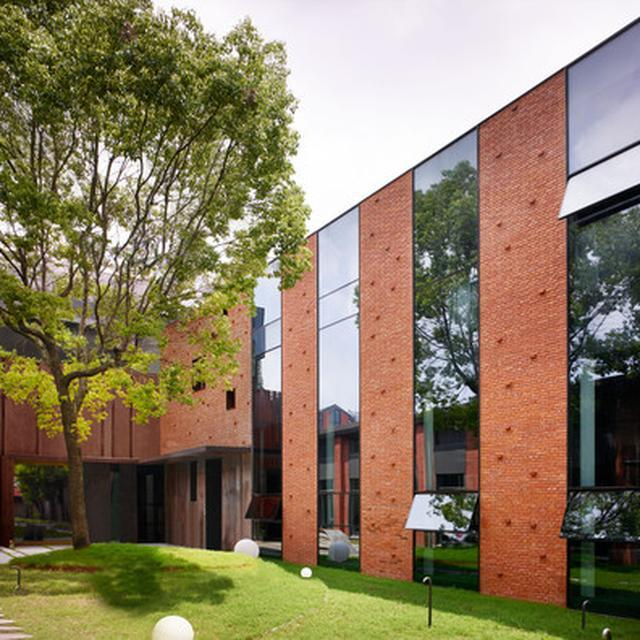building: (252, 15, 639, 622), (0, 242, 252, 557)
